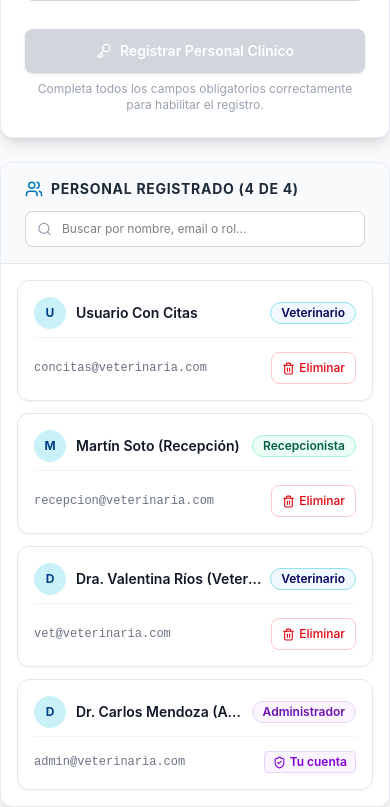
Test: Gestión de Usuarios - AdminUsuariosPage › muestra el botón de eliminar para otros usuarios y abre el modal de confirmación
(page scrolled)
Expected: the text "Dra. Valentina Ríos (Veterinaria)" is shown, [76,569,262,589]
Clic en eliminar abre el diálogo accesible de confirmación
Click the button with aria-label "eliminar cuenta de Dra. Valentina Ríos (Veterinaria)" at (314, 634), box [271,618,356,650]
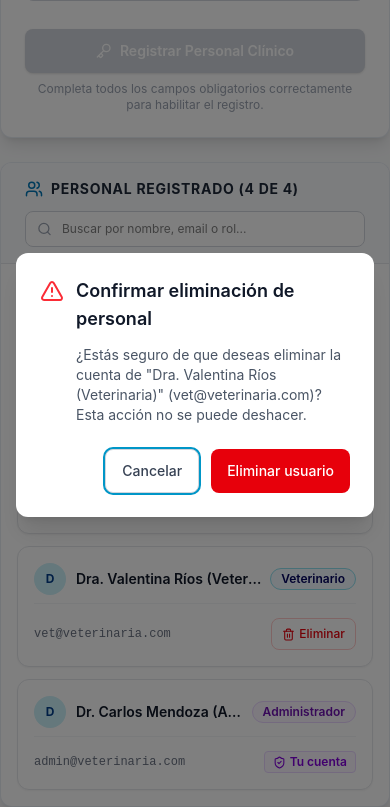
Expected: the dialog is shown, [16,253,374,517]
Expected: the heading "Confirmar eliminación de personal" is shown, [76,280,294,329]
Expected: the button "Eliminar usuario" is shown, [211,449,350,493]
